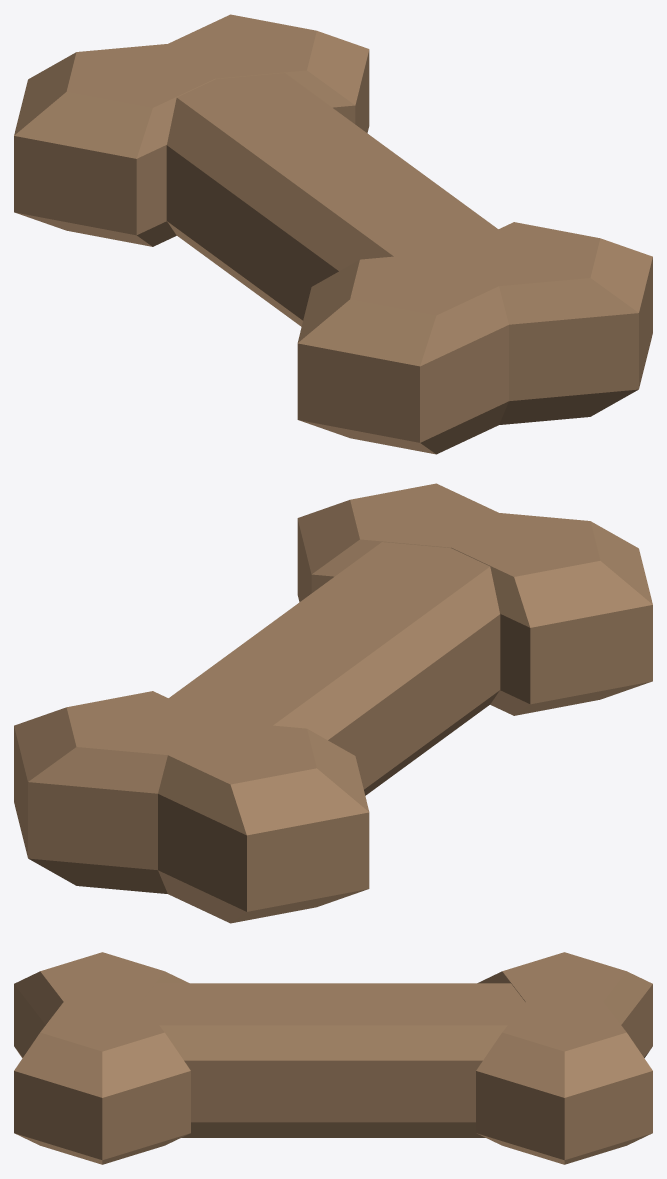
File: O_Interactive_DogTreat.fbx
3 views of the same model, one above another, from view 1: azimuth 30°, elevation 25°; view 2: azimuth 150°, elevation 25°; view 3: azimuth 270°, elevation 25° (orthographic). The views are drawn at different scales.
Parts seen in each view (by area): view 1: polySurface8; view 2: polySurface8; view 3: polySurface8.
Part boxes in pixels (x1,y1,x2,y2): polySurface8: (14,14,652,454); polySurface8: (14,483,652,923); polySurface8: (14,952,652,1164).
Size of the model in its own units: 0.1218 by 0.0455 by 0.2328.
